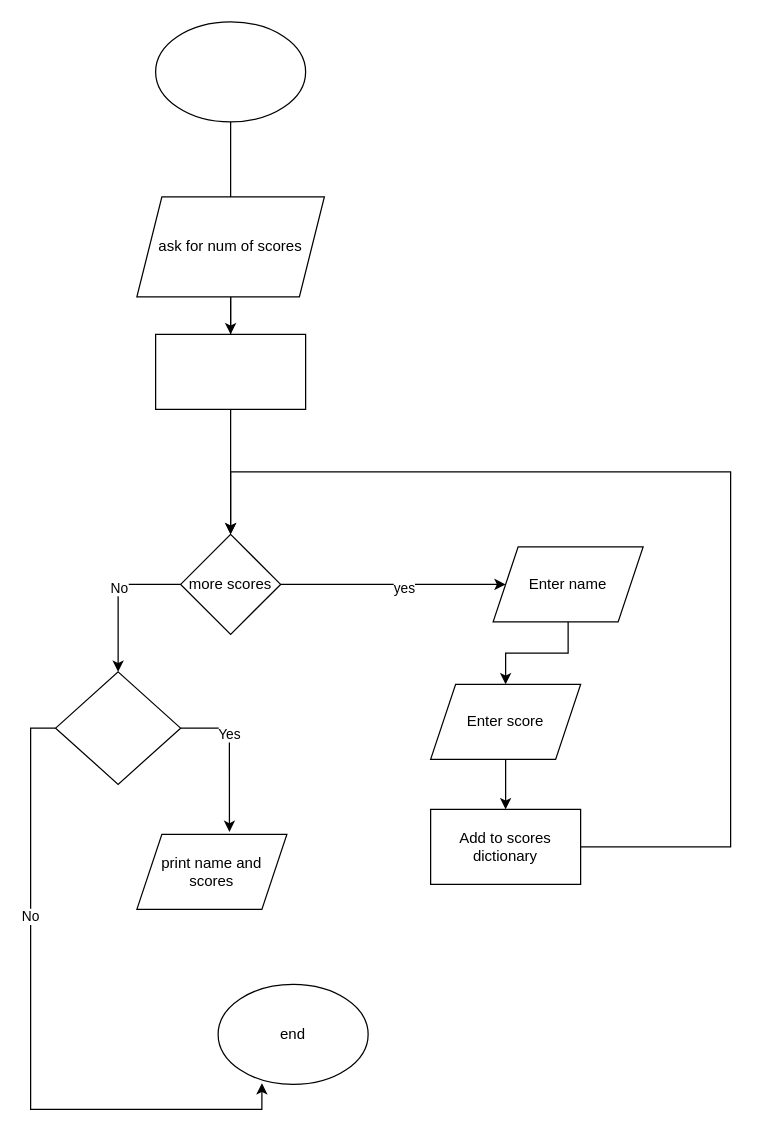
The diagram is 763 pixels wide and 1141 high, and some of its shapes have lost their labels. The centre of each missing label's shape, as x and y in pixels:
create scores dictionary: (230,371)
iterate over scores dict: (117,727)
start: (230,71)
